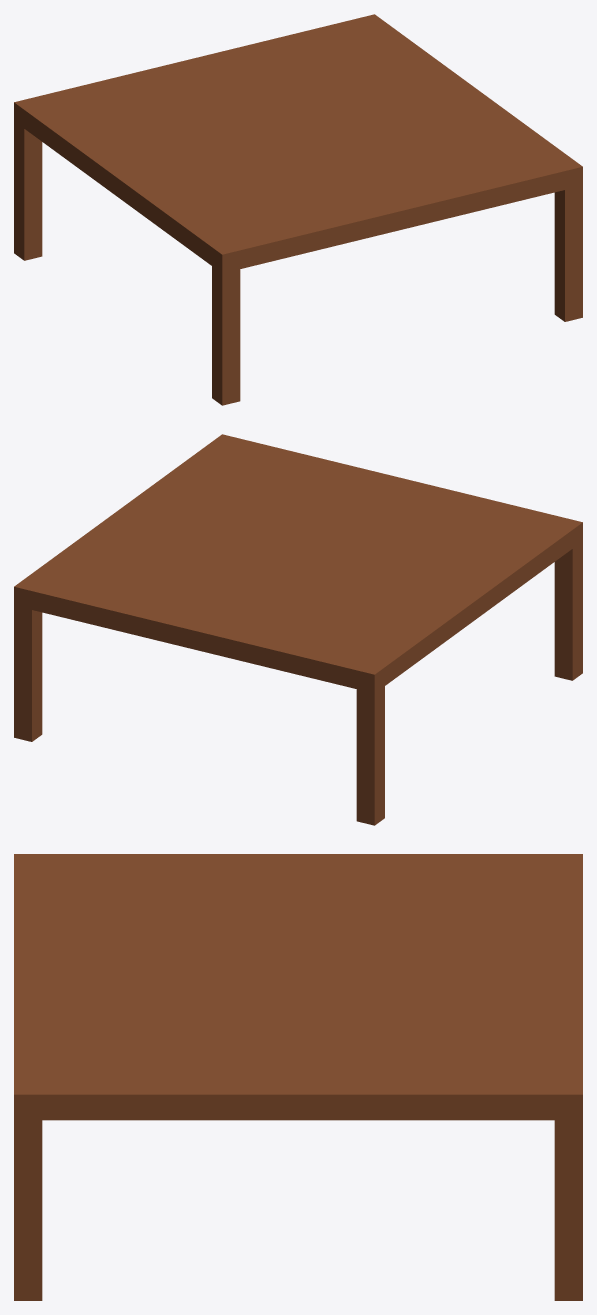
Rendered from tableplain01.gltf.
3 views of the same model, one above another, from view 1: azimuth 30°, elevation 25°; view 2: azimuth 150°, elevation 25°; view 3: azimuth 270°, elevation 25° (orthographic). The views are drawn at different scales.
Parts seen in each view (by area): view 1: Cube; view 2: Cube; view 3: Cube.
Boxes of the visible parts, left/top/right/bottom form: Cube: left=14, top=14, right=582, bottom=405; Cube: left=14, top=434, right=582, bottom=825; Cube: left=14, top=854, right=582, bottom=1300.
Size of the model in its own units: 2 by 0.8 by 2.
1 material, 1 textured.
